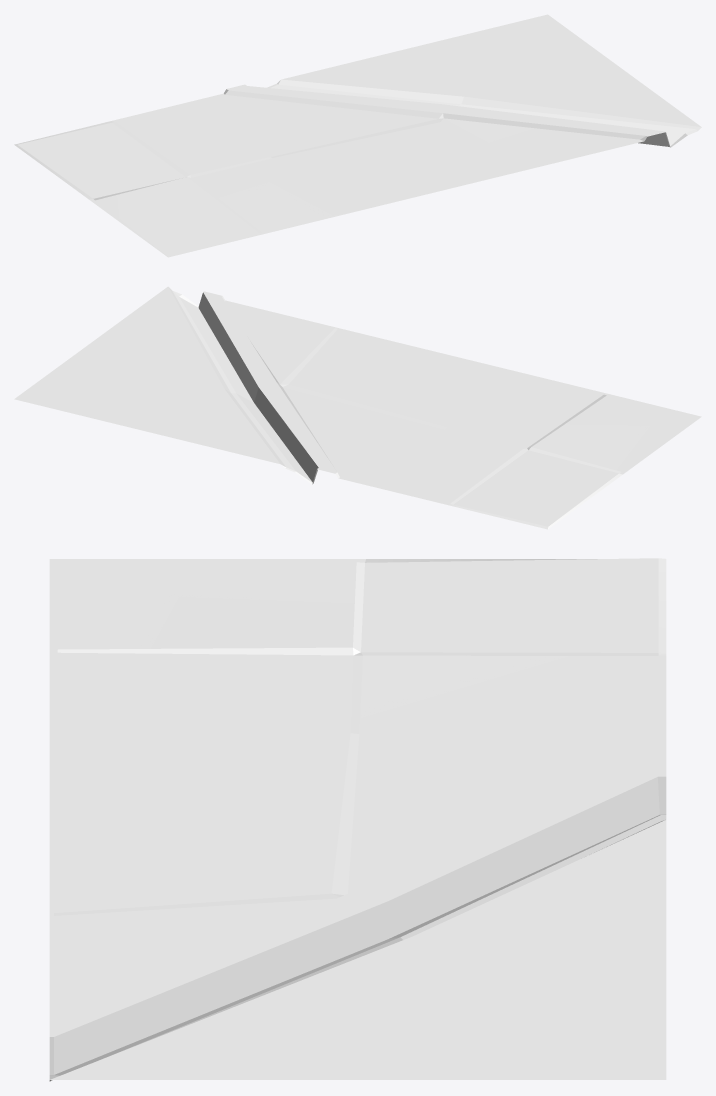
File: SM_Env_Sidewalk_Merger_01.glb
The picture shows the model from 3 angles, top to bottom: view 1: azimuth 30°, elevation 25°; view 2: azimuth 150°, elevation 25°; view 3: azimuth 270°, elevation 25°; orthographic projection. The views are drawn at different scales.
Parts seen in each view (by area): view 1: SM_Env_Sidewalk_Merger_01; view 2: SM_Env_Sidewalk_Merger_01; view 3: SM_Env_Sidewalk_Merger_01.
Boxes of the visible parts, box(x1,y1,x2,y2) form: SM_Env_Sidewalk_Merger_01: box(14, 14, 701, 257); SM_Env_Sidewalk_Merger_01: box(14, 286, 701, 529); SM_Env_Sidewalk_Merger_01: box(49, 558, 666, 1081).
Bounding box in the file's own units: 0.1 × 0.003 × 0.05.
Materials: 1 (1 with a texture image).
